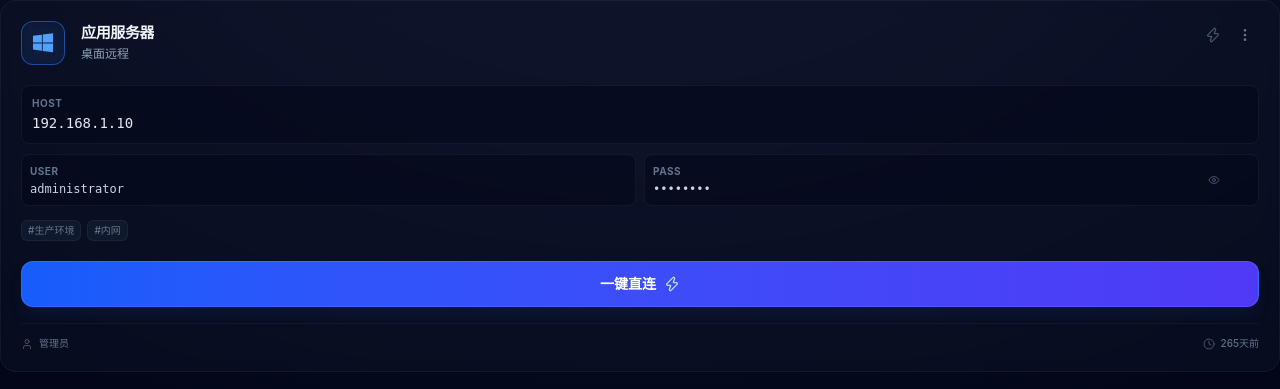
Test: ConnectionCard（T5） › 密码眼睛：点击按需解密显示明文，再点遮罩
Step 1. Click the button titled "显示" → (1214, 180), box [1202, 168, 1226, 192]
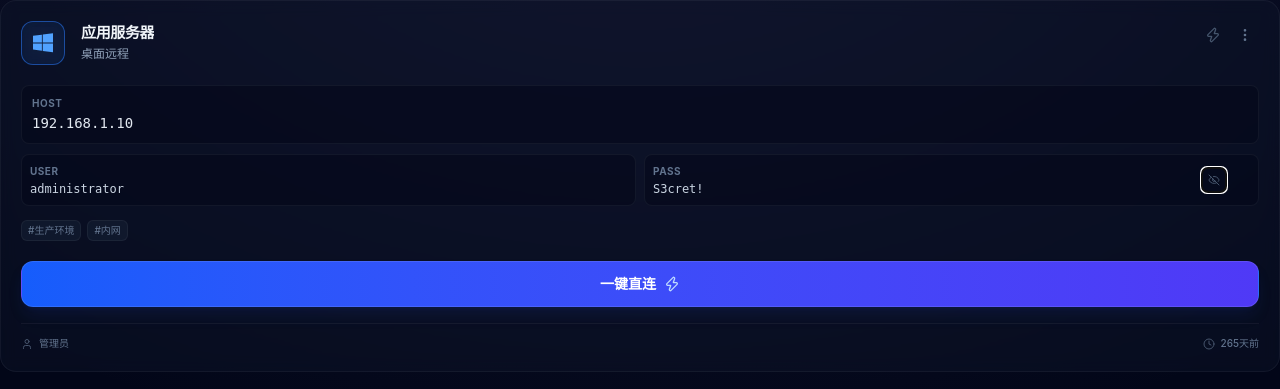
Expected: the text "S3cret!" is shown, [653, 182, 704, 196]
Step 2. Click the button titled "隐藏" → (1214, 180), box [1202, 168, 1226, 192]
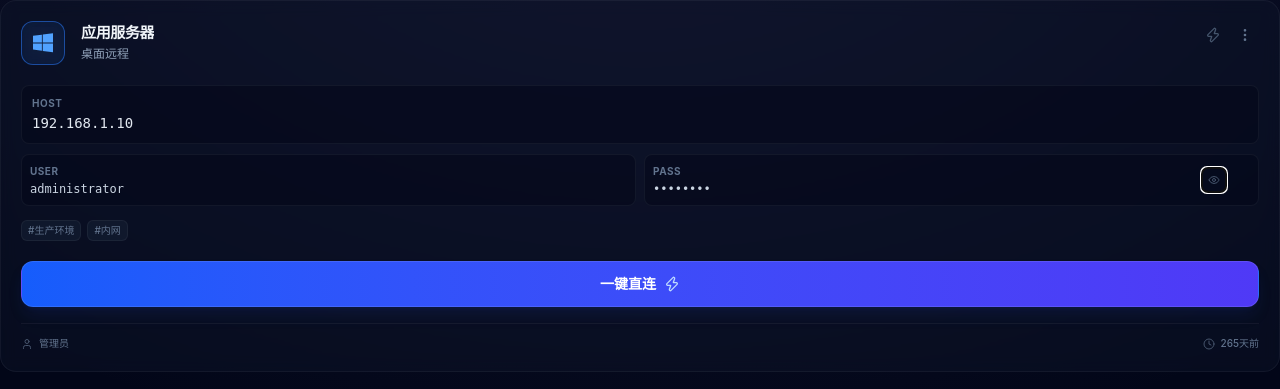
Expected: the text "••••••••" is shown, [653, 182, 711, 196]
